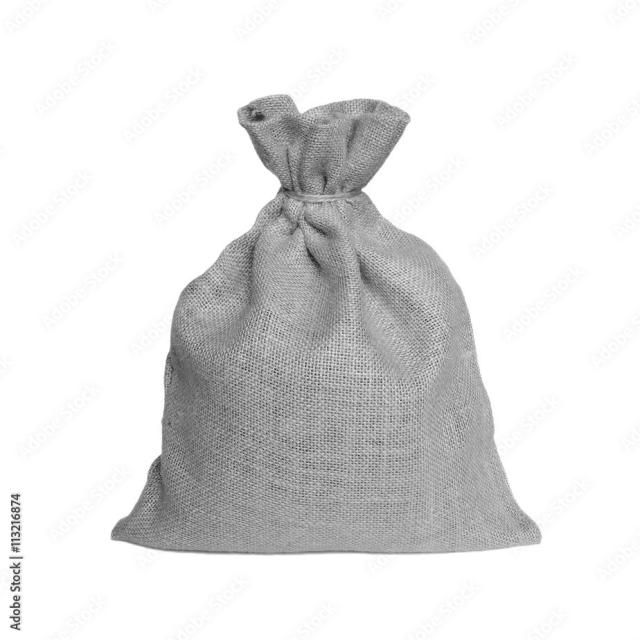sack: (109, 93, 541, 554)
